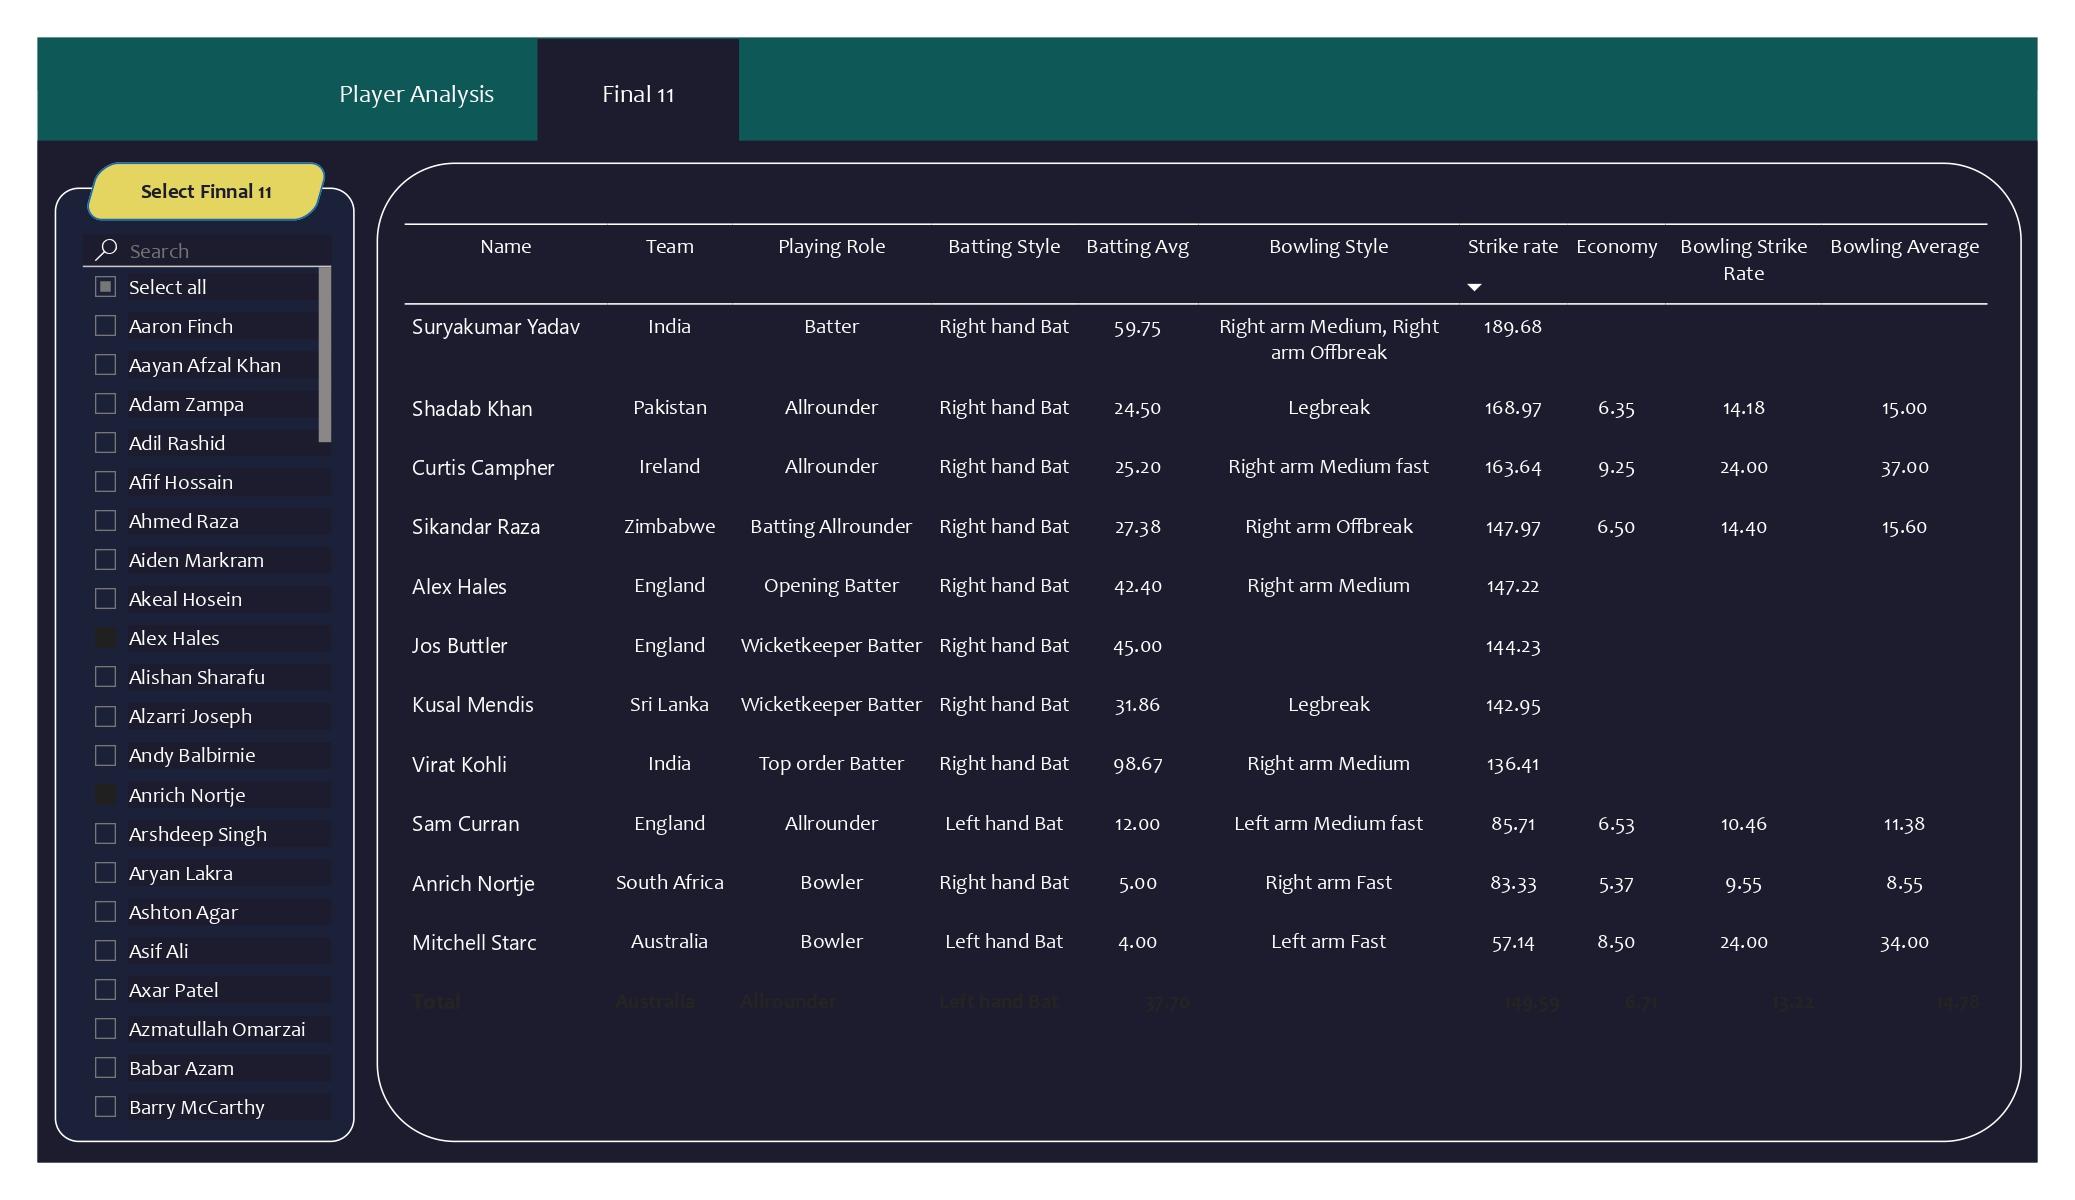

Layout of this report page (visuals, bound fields, positions):
{"tool":"powerbi","page":{"name":"Final !1","canvas":[1280,720],"ordinal":5},"visuals":[{"type":"shape","box":[0,66,1280,654],"z":0},{"type":"shape","box":[217.1,80,1052.9,627.1],"z":1000},{"type":"shape","box":[11.4,95.7,191.4,611.4],"z":2000},{"type":"shape","box":[28.6,80,158.6,37.1],"z":3000},{"type":"actionButton","box":[166,1.4,153.7,67.2],"z":4000},{"type":"actionButton","box":[319.7,1.4,129,67.2],"z":5000},{"type":"slicer","fields":{"Values":["dim_players.Name"]},"box":[24.3,121.4,168.6,583],"z":6000},{"type":"pivotTable","fields":{"Rows":["dim_players.Name"],"Values":["Min(dim_players.Team)","Min(dim_players.playingRole)","Min(dim_players.Batting Style)","Key_measures.Batting Avg","Min(dim_players.bowlingStyle)","Key_measures.Strike rate","Key_measures.Economy","Key_measures.Bowling Strike Rate","Key_measures.Bowling Average"]},"box":[230,98.8,1040,608.8],"z":7000}]}

Visuals, with their boxes on the page's 1280x720 design canvas (x1, y1, x2, y2). These are canvas units, not pixel positions in the 2075x1200 screenshot, which may show the page scaled, cropped or inside an application window:
shape: l=0, t=66, r=1280, b=720
shape: l=217, t=80, r=1270, b=707
shape: l=11, t=96, r=203, b=707
shape: l=29, t=80, r=187, b=117
actionButton: l=166, t=1, r=320, b=69
actionButton: l=320, t=1, r=449, b=69
slicer - dim_players.Name: l=24, t=121, r=193, b=704
pivotTable - dim_players.Name x Min(dim_players.Team): l=230, t=99, r=1270, b=708
